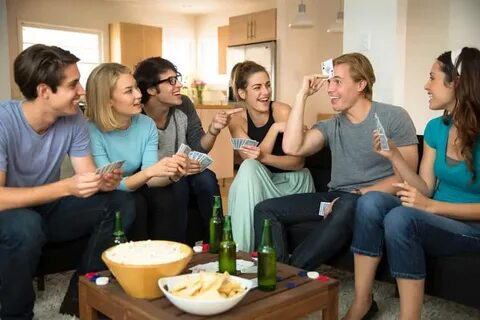awake: (1, 43, 118, 274), (389, 46, 479, 255), (302, 51, 419, 205), (132, 55, 222, 223), (225, 60, 316, 201), (84, 61, 159, 197)
